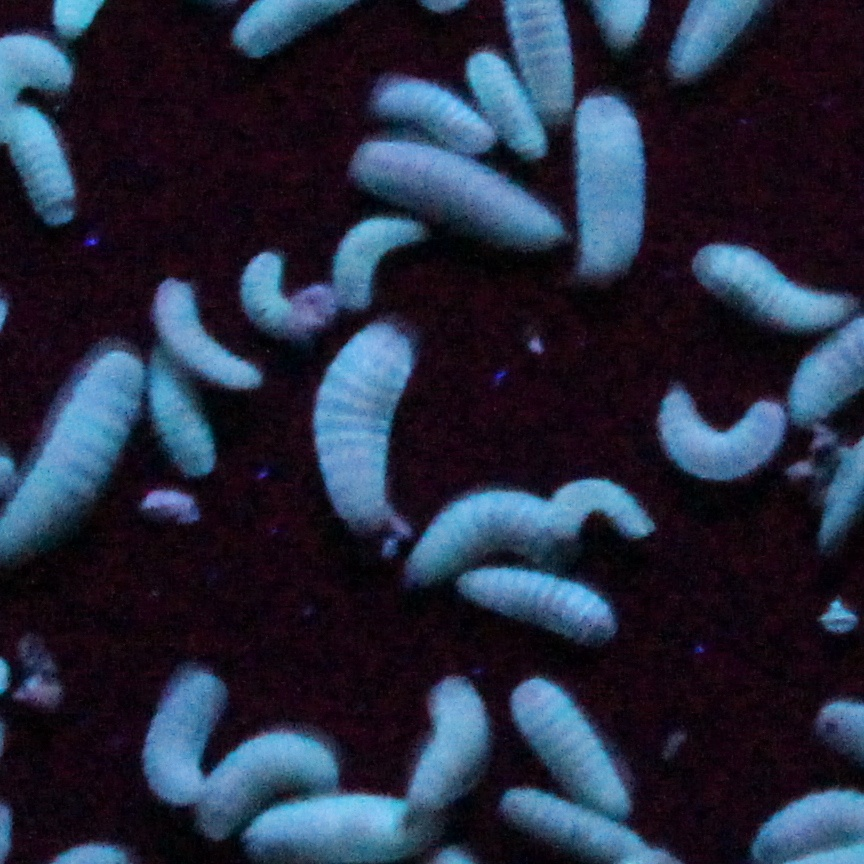larve: (306, 321, 435, 537), (360, 135, 565, 230), (565, 94, 656, 292), (510, 678, 635, 819), (685, 232, 862, 330), (194, 726, 356, 828), (137, 271, 267, 392), (451, 560, 626, 646), (396, 487, 546, 578), (660, 392, 790, 489), (144, 664, 226, 814), (415, 673, 492, 828), (499, 773, 644, 853), (3, 103, 83, 226), (465, 37, 546, 157), (374, 76, 496, 153), (333, 217, 424, 317), (542, 473, 658, 551), (242, 244, 337, 330), (151, 360, 221, 473), (137, 482, 212, 526)
